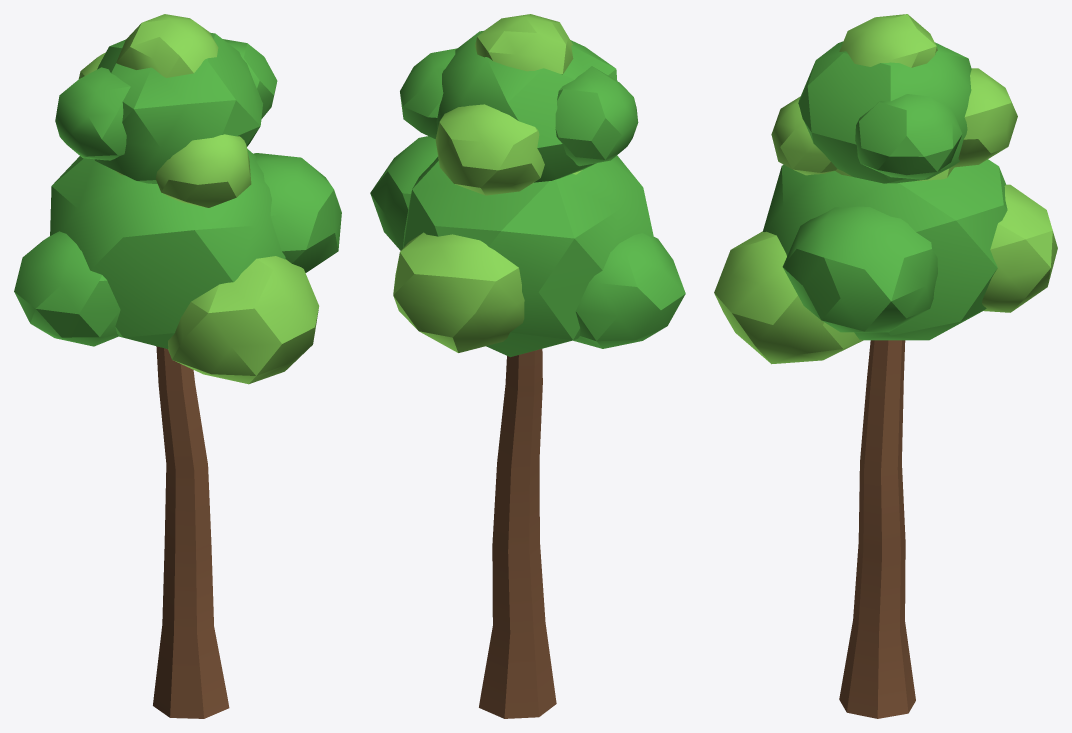
File: RoundTreeTall.fbx
3 renders of one model, left to right at view 1: azimuth 30°, elevation 25°; view 2: azimuth 150°, elevation 25°; view 3: azimuth 270°, elevation 25°, orthographic. The views are drawn at different scales.
Visible parts, largest first — view 1: RoundTreeTall_Leaf, RoundTreeTall_LeafLight, RoundTreeTall_Bark; view 2: RoundTreeTall_Leaf, RoundTreeTall_LeafLight, RoundTreeTall_Bark; view 3: RoundTreeTall_Leaf, RoundTreeTall_LeafLight, RoundTreeTall_Bark.
Boxes of the visible parts, left/top/right/bottom form: RoundTreeTall_Leaf: left=14, top=32, right=341, bottom=348; RoundTreeTall_LeafLight: left=78, top=14, right=319, bottom=384; RoundTreeTall_Bark: left=153, top=346, right=229, bottom=718; RoundTreeTall_Leaf: left=370, top=31, right=685, bottom=357; RoundTreeTall_LeafLight: left=393, top=14, right=582, bottom=352; RoundTreeTall_Bark: left=479, top=349, right=556, bottom=718; RoundTreeTall_Leaf: left=762, top=41, right=1007, bottom=340; RoundTreeTall_LeafLight: left=714, top=14, right=1057, bottom=364; RoundTreeTall_Bark: left=839, top=340, right=915, bottom=718.
Bounding box in the file's own units: 585 × 1281 × 589.
